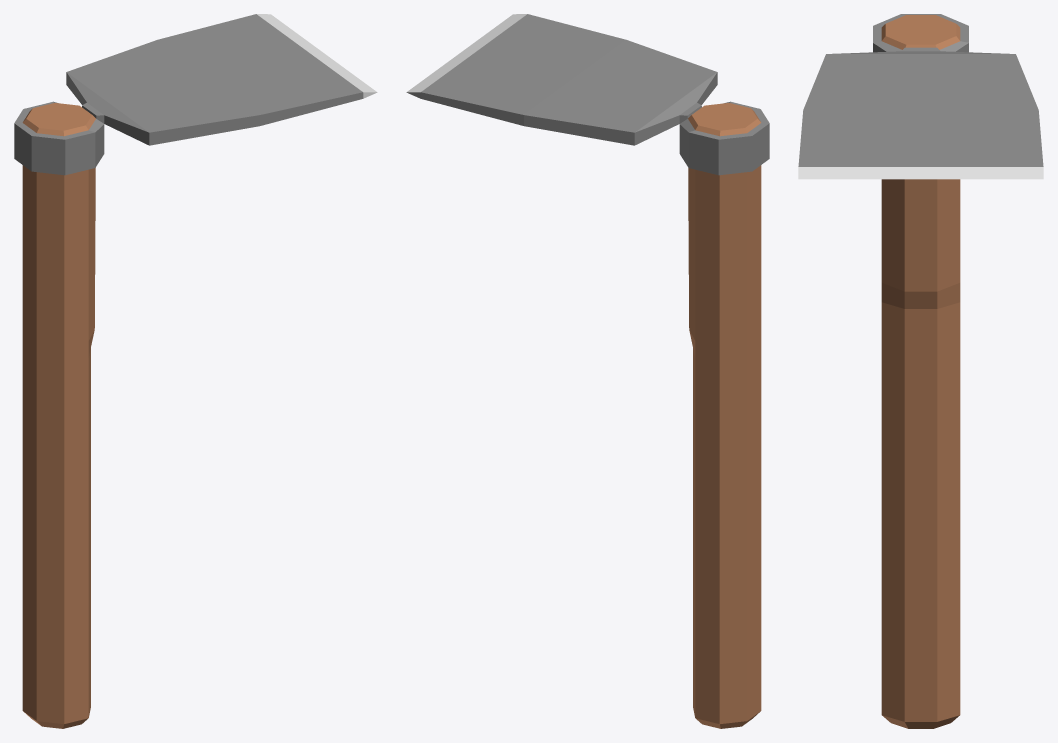
File: Test_Hoe.fbx
3 views of the same model, side by side, from view 1: azimuth 30°, elevation 25°; view 2: azimuth 150°, elevation 25°; view 3: azimuth 270°, elevation 25° (orthographic). The views are drawn at different scales.
Parts seen in each view (by area): view 1: Hoe.001; view 2: Hoe.001; view 3: Hoe.001.
Part boxes in pixels (x1,y1,x2,y2): Hoe.001: (14, 14, 377, 728); Hoe.001: (406, 14, 769, 728); Hoe.001: (798, 14, 1043, 728).
Bounding box in the file's own units: 18.74 × 35.85 × 11.52.
